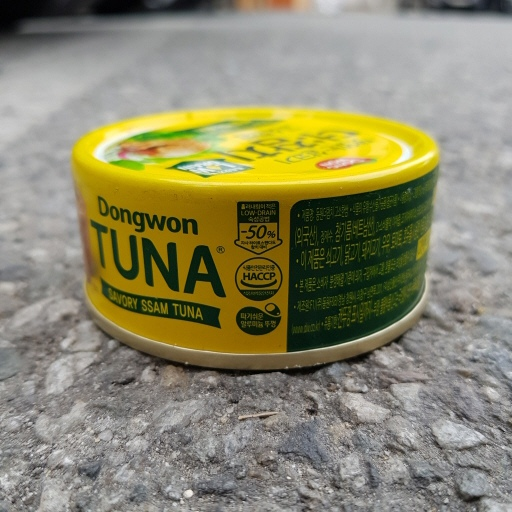Metal_1: (72, 104, 443, 365)
